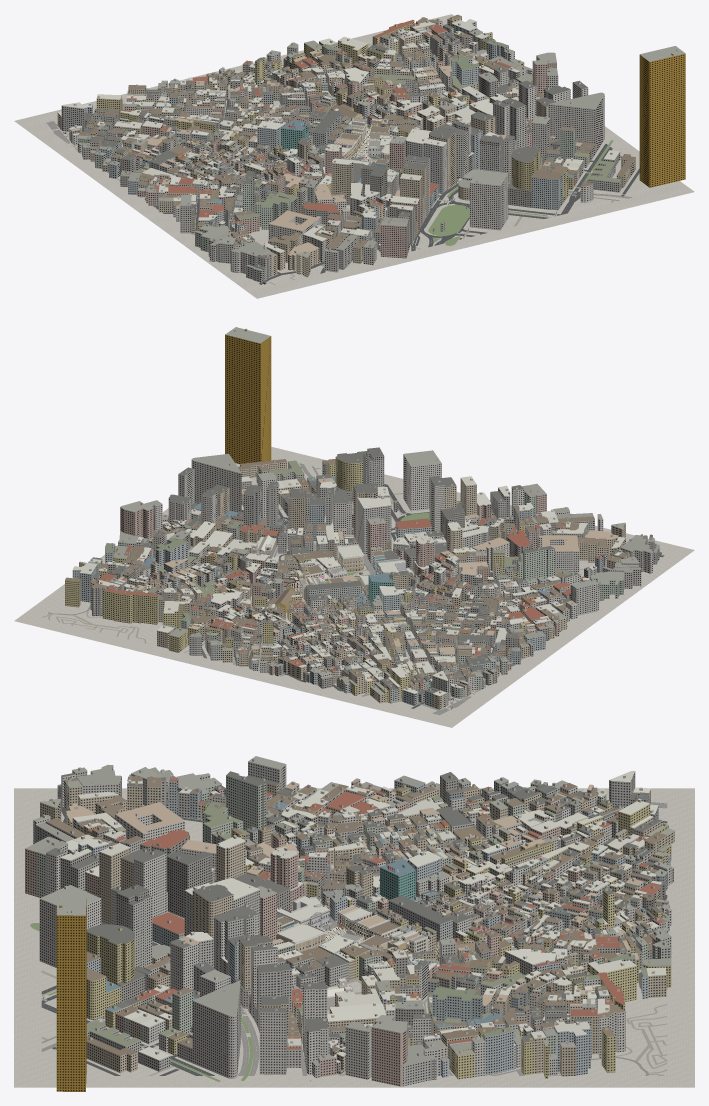
The model's file is senado_massing.glb.
The picture shows the model from 3 angles, top to bottom: view 1: azimuth 30°, elevation 25°; view 2: azimuth 150°, elevation 25°; view 3: azimuth 270°, elevation 25°; orthographic projection. The views are drawn at different scales.
Parts seen in each view (by area): view 1: Buildings_context_merged, Ground, B_w192182405_grand_lisboa, Rooftops_context, Carriageway_asphalt, Grass, Rooftops_core, B_w391316016, B_w414642047, B_w391316017, B_w205784462_mercado, B_w397915628_hotel_central (+6 smaller); view 2: Buildings_context_merged, Ground, B_w192182405_grand_lisboa, Rooftops_context, Rooftops_core, B_w391316018, Footways, B_w205784462_mercado, B_w427432605, Carriageway_concrete, B_w1204412822, B_w391316019 (+1 smaller); view 3: Buildings_context_merged, Ground, Rooftops_context, B_w192182405_grand_lisboa, Rooftops_core, B_w391316017, Carriageway_concrete, B_w205784462_mercado, B_w397915628_hotel_central, B_w414642047, Footways, B_w279957437 (+15 smaller).
Part boxes in pixels (x1,y1,x2,y2): Buildings_context_merged: (57,14,635,284); Ground: (14,14,694,298); B_w192182405_grand_lisboa: (639,46,685,187); Rooftops_context: (73,17,623,266); Carriageway_asphalt: (84,98,639,284); Grass: (320,140,613,266); Rooftops_core: (248,90,465,183); B_w391316016: (423,138,447,193); B_w414642047: (331,158,353,205); B_w391316017: (429,127,456,189); B_w205784462_mercado: (312,110,341,147); B_w397915628_hotel_central: (280,120,308,149); Buildings_context_merged: (65,447,661,709); Ground: (14,447,694,727); B_w192182405_grand_lisboa: (225,327,271,463); Rooftops_context: (76,451,655,693); Rooftops_core: (239,485,470,617); B_w391316018: (357,497,391,554); Footways: (42,468,583,701); B_w205784462_mercado: (306,580,362,604); B_w427432605: (333,490,351,534); Carriageway_concrete: (48,463,524,715); B_w1204412822: (289,488,305,528); B_w391316019: (367,517,386,562); Buildings_context_merged: (25,756,674,1086); Ground: (14,788,694,1087); Rooftops_context: (42,758,666,1058); B_w192182405_grand_lisboa: (56,891,86,1091); Rooftops_core: (193,835,499,980); B_w391316017: (192,884,233,967); Carriageway_concrete: (41,800,667,1075); B_w205784462_mercado: (388,895,452,941); B_w397915628_hotel_central: (380,858,415,899); B_w414642047: (216,837,245,881); Footways: (41,864,667,1075); B_w279957437: (270,847,298,889).
Size of the model in its own units: 781 by 215 by 740.
Materials: 78 (17 with a texture image).
